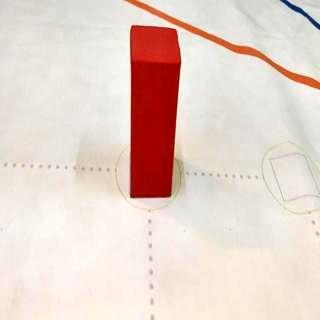redbox: (130, 23, 182, 199)
